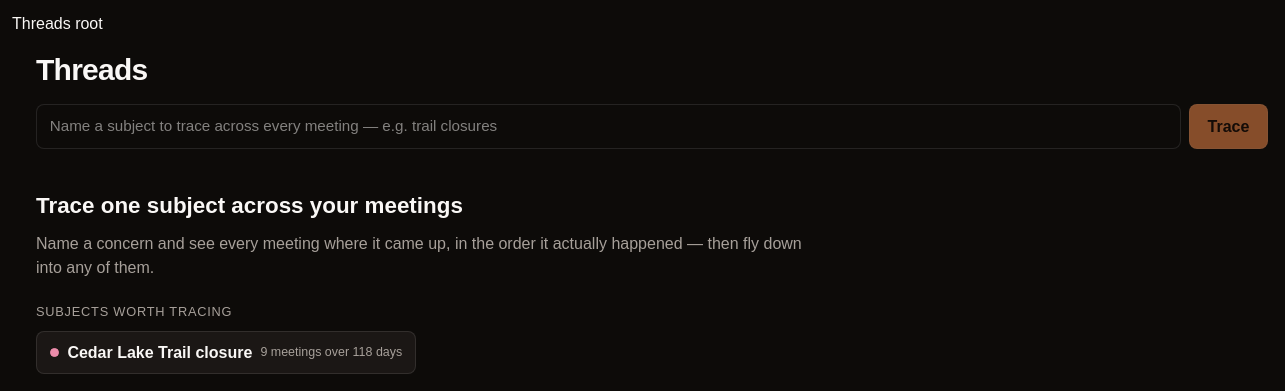
Test: the two ways in › says plainly when nothing matches, and offers nothing it cannot back
Step 1. Type "no such thing" into the field labelled "subject to trace" → {"x": 608, "y": 127}, box [36,104,1181,149]
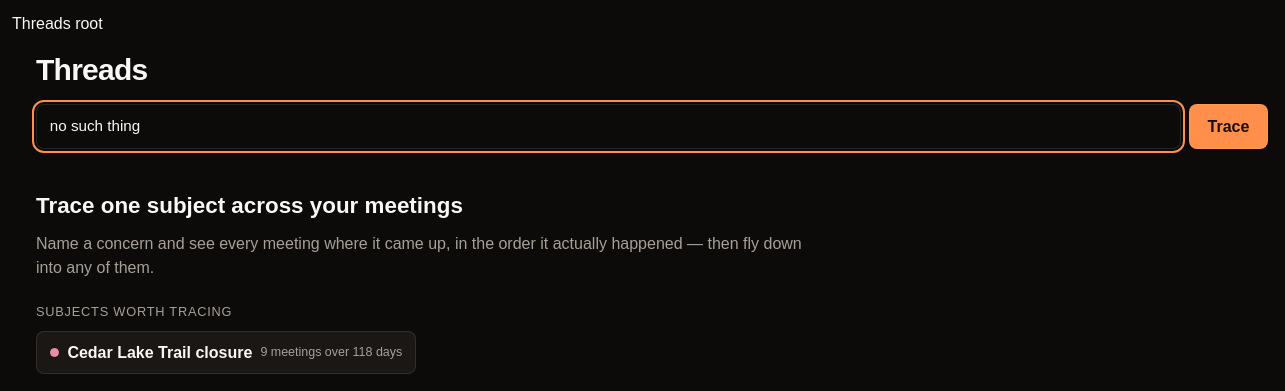
Step 2. Click the button "Trace" → {"x": 1228, "y": 127}, box [1189,104,1268,149]
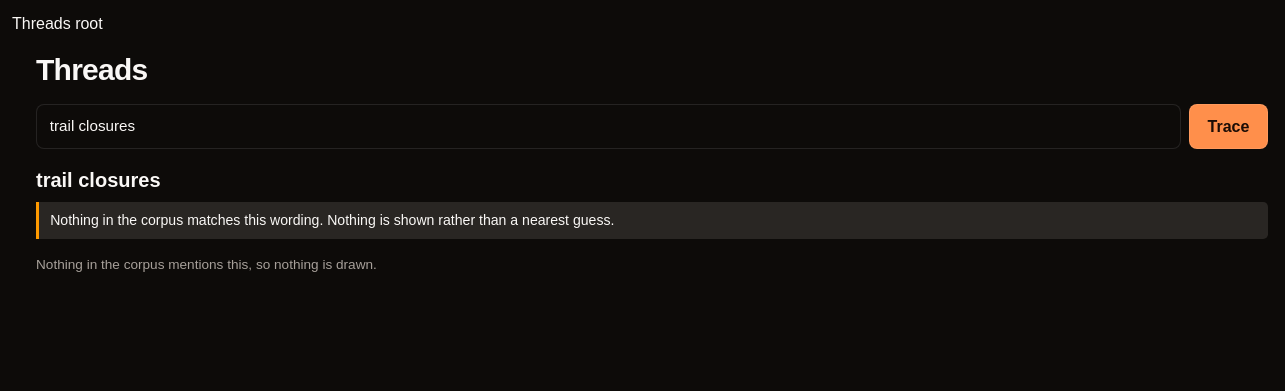
Result: the text "Nothing in the corpus matches this wording" is shown at [50,212,614,228]
Result: the text "Nothing in the corpus mentions this, so nothing is drawn." is shown at [36,257,377,272]
